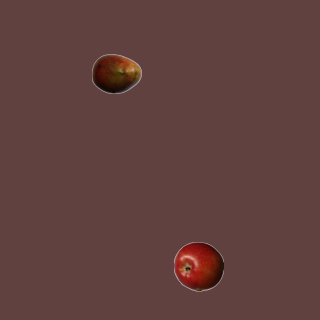Apple Braeburn: (173, 241, 223, 291)
Mango Red: (91, 48, 141, 98)
